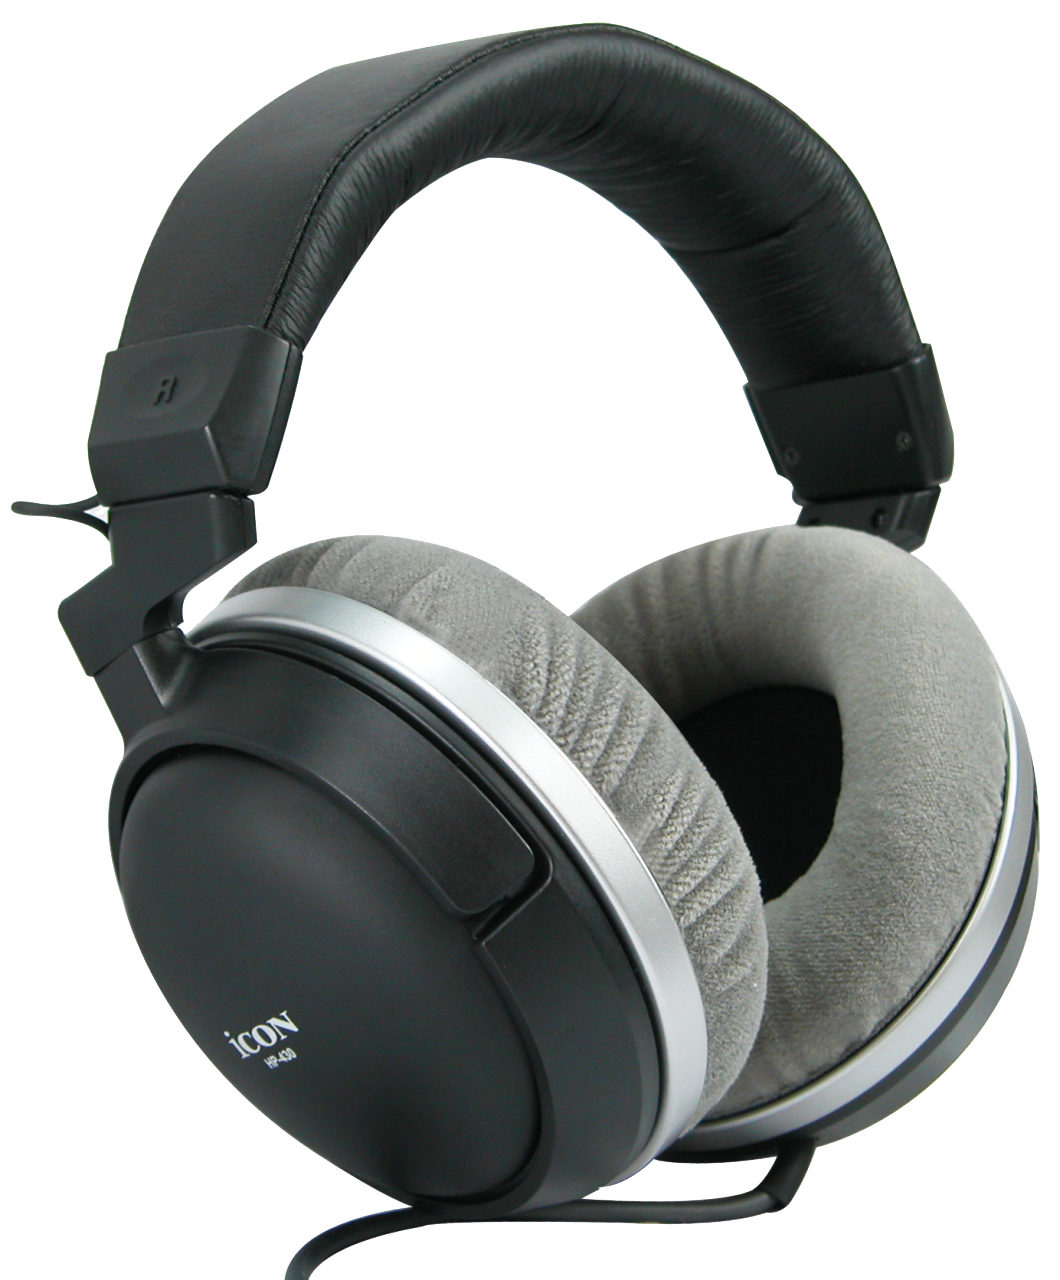headphone: (136, 57, 1038, 1136)
